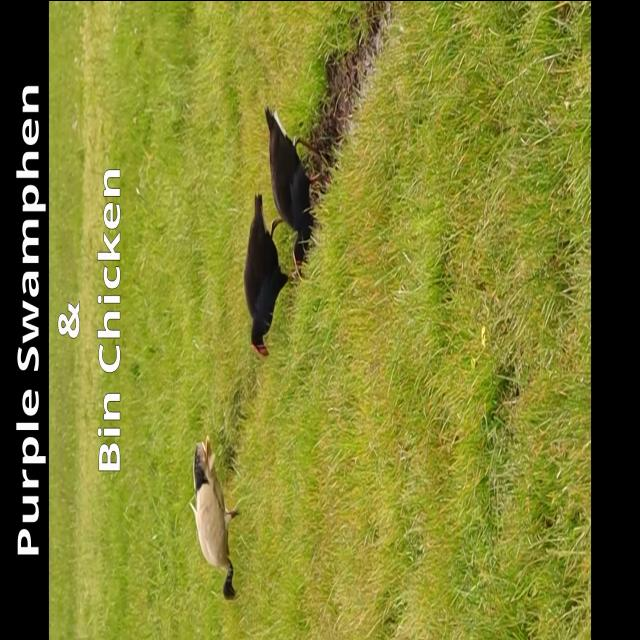Birds-Ibis: (184, 428, 244, 606)
Birds-Other: (238, 188, 300, 364), (264, 100, 322, 280)
